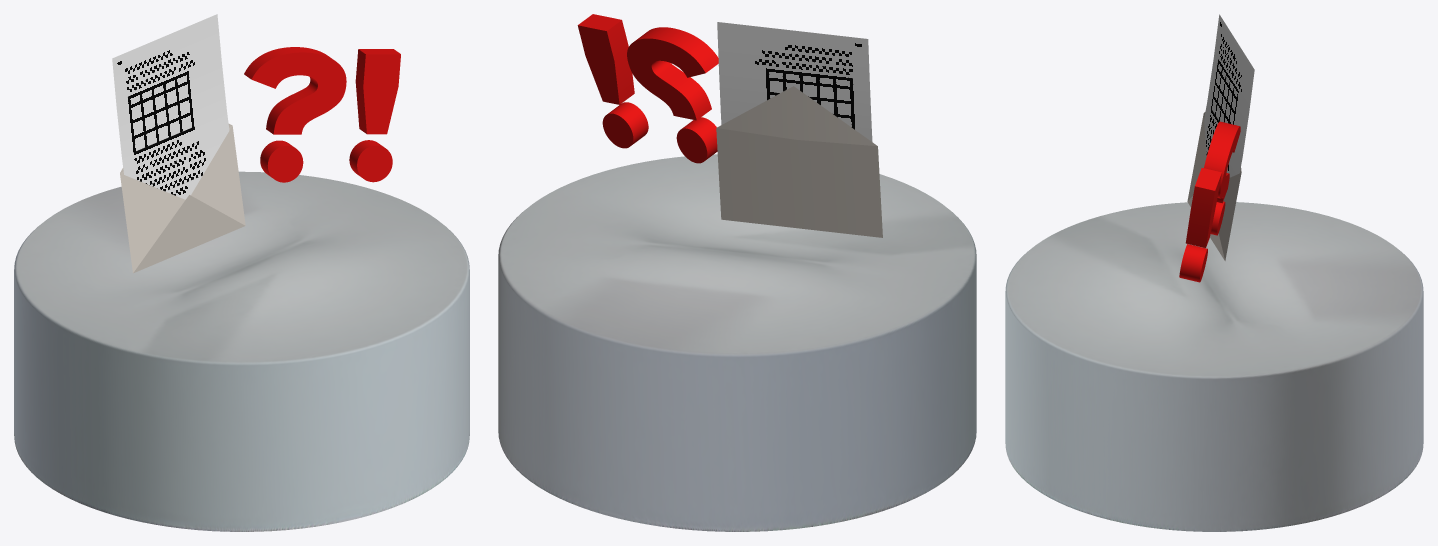
The model's file is email.glb.
3 renders of one model, left to right at view 1: azimuth 30°, elevation 25°; view 2: azimuth 150°, elevation 25°; view 3: azimuth 270°, elevation 25°, orthographic. The views are drawn at different scales.
Visible parts, largest first — view 1: floor, letter, Text, envelope; view 2: floor, envelope, letter, Text; view 3: floor, Text, letter, envelope.
Part boxes in pixels (x1=…): floor: x1=14, y1=171, x2=469, y2=531; letter: x1=112, y1=14, x2=229, y2=199; Text: x1=244, y1=47, x2=400, y2=182; envelope: x1=120, y1=124, x2=245, y2=273; floor: x1=498, y1=154, x2=976, y2=531; envelope: x1=716, y1=86, x2=882, y2=237; letter: x1=717, y1=22, x2=872, y2=141; Text: x1=577, y1=14, x2=718, y2=163; floor: x1=1005, y1=202, x2=1423, y2=531; Text: x1=1179, y1=121, x2=1240, y2=282; letter: x1=1204, y1=14, x2=1254, y2=233; envelope: x1=1187, y1=112, x2=1241, y2=260.
Size of the model in its own units: 2 by 1.97 by 2.
Materials: 4 (2 with a texture image).
